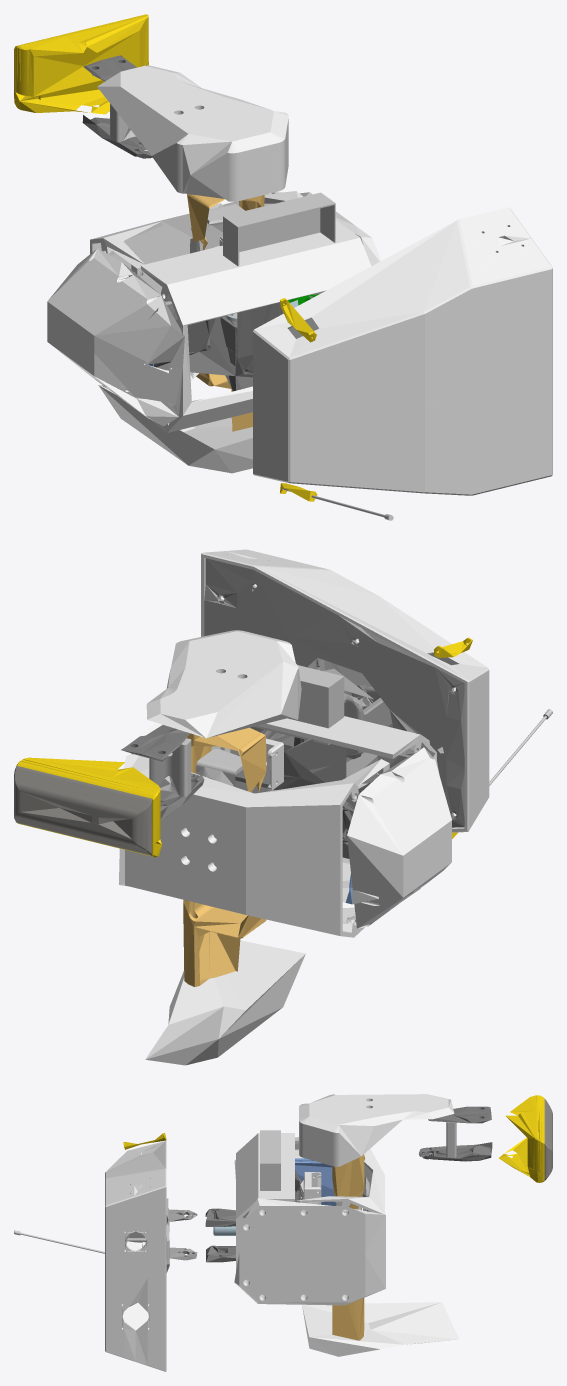
File: openduck.glb
The picture shows the model from 3 angles, top to bottom: view 1: azimuth 30°, elevation 25°; view 2: azimuth 150°, elevation 25°; view 3: azimuth 270°, elevation 25°; orthographic projection. The views are drawn at different scales.
Visible parts, largest first — view 1: head.stl, left_cache.stl, body_back.stl, body_middle_top.stl, foot_top.stl, right_cache.stl, holder.stl, trunk_top.stl, body_middle_bottom.stl, foot_side.stl, left_roll_to_pitch.stl, left_knee_to_ankle_right_sheet.stl (+5 smaller); view 2: body_middle_bottom.stl, head_bot_sheet.stl, head.stl, body_back.stl, left_cache.stl, right_cache.stl, foot_bottom_tpu.stl, right_roll_to_pitch.stl, body_middle_top.stl, foot_top.stl, trunk_top.stl, holder.stl (+8 smaller); view 3: body_front.stl, head.stl, left_cache.stl, right_cache.stl, body_middle_top.stl, foot_top.stl, body_middle_bottom.stl, holder.stl, left_roll_to_pitch.stl, right_roll_to_pitch.stl, left_knee_to_ankle_right_sheet.stl, battery_pack_lid.stl (+8 smaller).
Boxes of the visible parts, x1,y1,x2,y2 form: head.stl: (253, 207, 552, 495); left_cache.stl: (97, 65, 288, 201); body_back.stl: (47, 248, 184, 426); body_middle_top.stl: (141, 220, 371, 432); foot_top.stl: (14, 14, 148, 96); right_cache.stl: (98, 385, 252, 473); holder.stl: (223, 192, 335, 266); trunk_top.stl: (154, 302, 283, 391); body_middle_bottom.stl: (90, 191, 302, 387); foot_side.stl: (14, 62, 148, 114); left_roll_to_pitch.stl: (187, 194, 264, 250); left_knee_to_ankle_right_sheet.stl: (82, 115, 152, 158); body_middle_bottom.stl: (125, 755, 389, 937); head_bot_sheet.stl: (204, 558, 464, 827); head.stl: (201, 549, 489, 832); body_back.stl: (347, 747, 451, 928); left_cache.stl: (146, 630, 301, 738); right_cache.stl: (145, 940, 305, 1065); foot_bottom_tpu.stl: (14, 766, 151, 855); right_roll_to_pitch.stl: (183, 899, 266, 986); body_middle_top.stl: (257, 716, 436, 902); foot_top.stl: (16, 757, 160, 843); trunk_top.stl: (235, 737, 358, 858); holder.stl: (253, 665, 344, 745); body_front.stl: (234, 1198, 385, 1305); head.stl: (105, 1141, 166, 1371); left_cache.stl: (299, 1094, 454, 1166); right_cache.stl: (302, 1302, 458, 1356); body_middle_top.stl: (236, 1133, 294, 1270); foot_top.stl: (505, 1095, 544, 1172); body_middle_bottom.stl: (295, 1148, 384, 1214); holder.stl: (260, 1130, 280, 1190); left_roll_to_pitch.stl: (332, 1154, 364, 1209); right_roll_to_pitch.stl: (332, 1298, 364, 1340); left_knee_to_ankle_right_sheet.stl: (418, 1142, 492, 1161); battery_pack_lid.stl: (295, 1158, 336, 1205).
Size of the model in its own units: 0.255 by 0.2461 by 0.5181.
